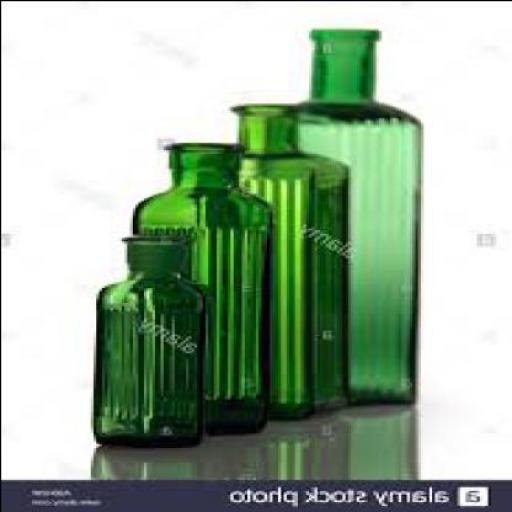glass: (282, 28, 426, 400), (134, 140, 275, 430), (226, 102, 354, 417), (95, 231, 213, 445)
